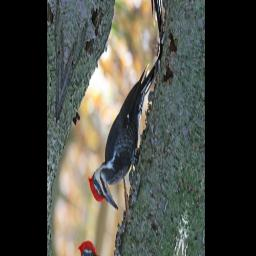Woodpecker: (86, 15, 161, 233)
